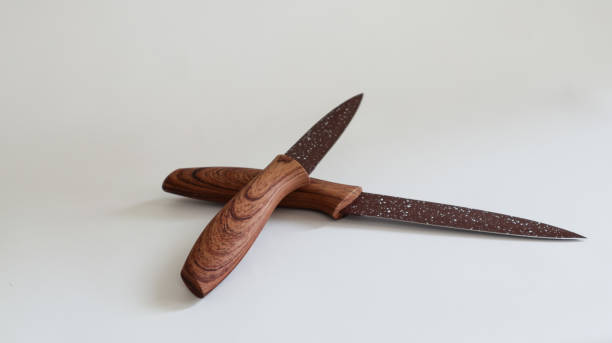knife: (178, 92, 364, 301), (160, 165, 589, 242)
